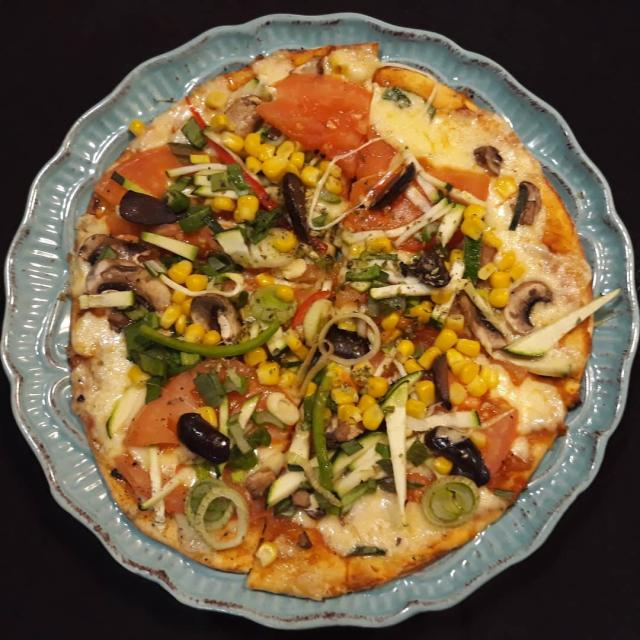mushrooms: (88, 258, 167, 316), (499, 276, 554, 336), (188, 287, 243, 345), (227, 95, 281, 134), (76, 232, 133, 264), (514, 175, 547, 228), (472, 143, 504, 180)
peppers: (136, 318, 292, 358), (314, 363, 343, 503), (225, 413, 259, 455), (344, 259, 378, 284), (252, 408, 293, 428), (369, 246, 399, 267)
pizza: (73, 44, 594, 607)
